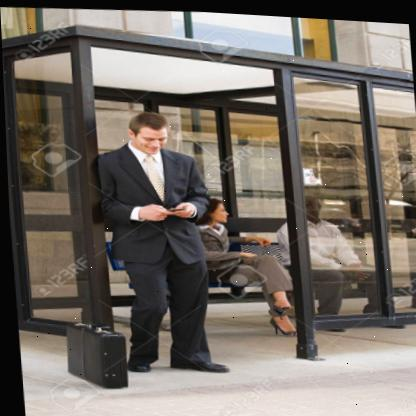person: (89, 92, 248, 381), (184, 181, 309, 345), (287, 183, 375, 341)
